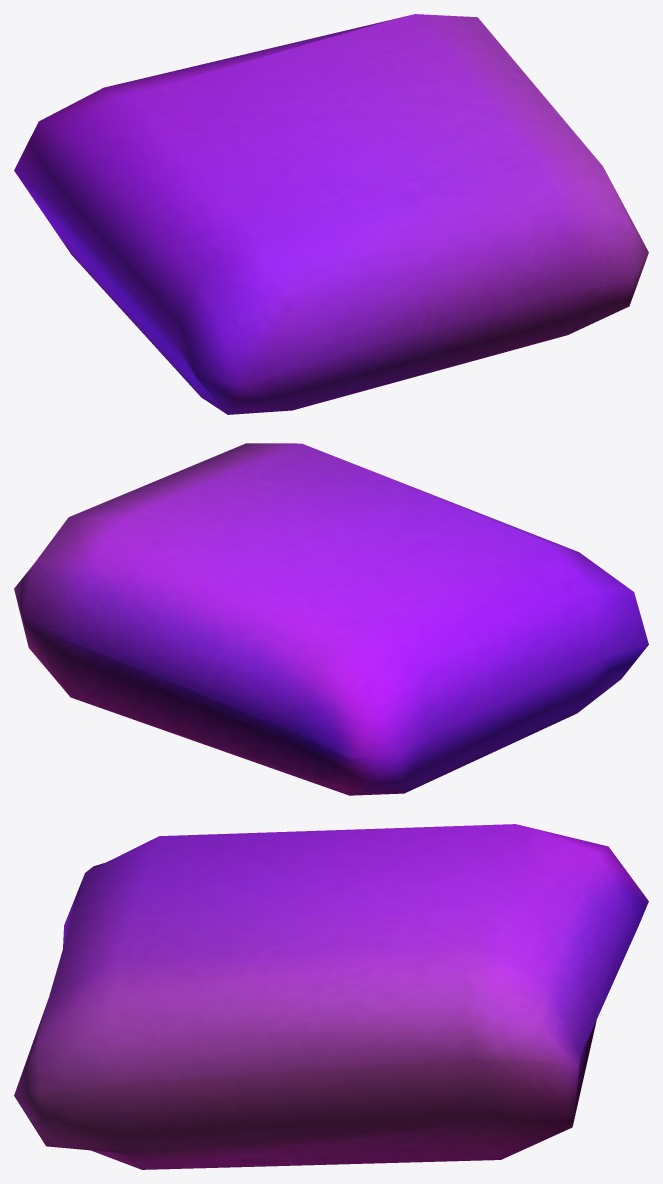
The model's file is cleanChaiseCushionAnim.glb.
3 views of the same model, one above another, from view 1: azimuth 30°, elevation 25°; view 2: azimuth 150°, elevation 25°; view 3: azimuth 270°, elevation 25° (orthographic). The views are drawn at different scales.
Parts seen in each view (by area): view 1: restore; view 2: restore; view 3: restore.
Boxes of the visible parts, bbox=[...] form: restore: bbox=[14, 14, 648, 414]; restore: bbox=[14, 443, 648, 795]; restore: bbox=[14, 824, 648, 1169].
Size of the model in its own units: 0.6827 by 0.3153 by 0.7125.
1 material, 1 textured.
